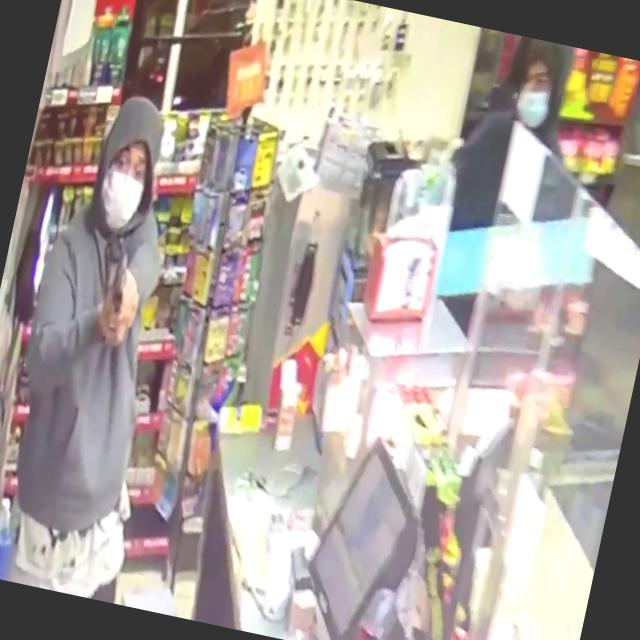handgun: (90, 242, 146, 348)
